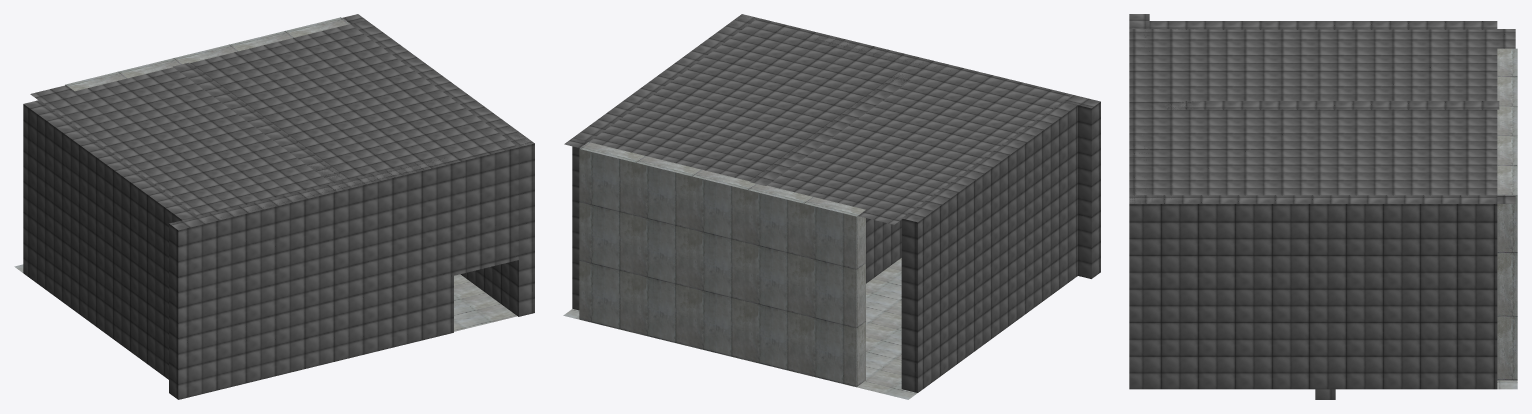
Rendered from Level_25.fbx.
3 views of the same model, side by side, from view 1: azimuth 30°, elevation 25°; view 2: azimuth 150°, elevation 25°; view 3: azimuth 270°, elevation 25° (orthographic). The views are drawn at different scales.
Parts seen in each view (by area): view 1: NoTeleport.014, Wall.015; view 2: NoTeleport.014, Wall.015; view 3: NoTeleport.014, Wall.015.
Part boxes in pixels (x1,y1,x2,y2): NoTeleport.014: (23, 14, 534, 399); Wall.015: (14, 17, 517, 331); NoTeleport.014: (564, 14, 1100, 392); Wall.015: (563, 142, 917, 399); NoTeleport.014: (1129, 14, 1515, 399); Wall.015: (1497, 48, 1517, 389).
Bounding box in the file's own units: 22 × 19 × 11.
